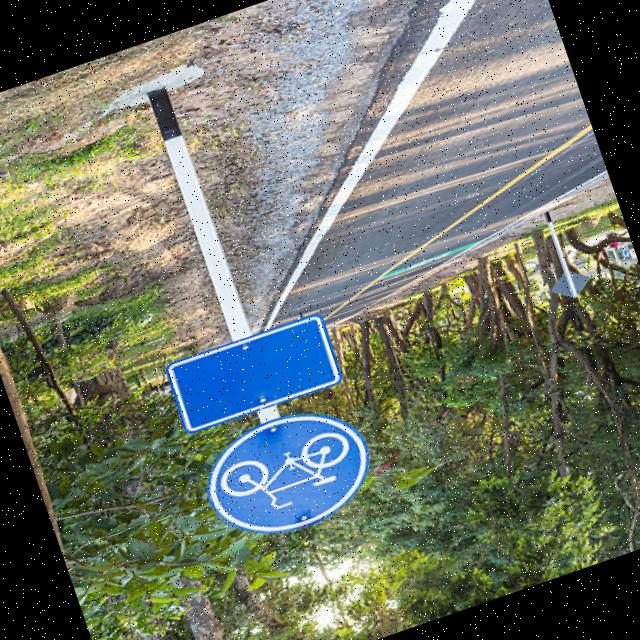bicycle: (188, 387, 400, 564)
